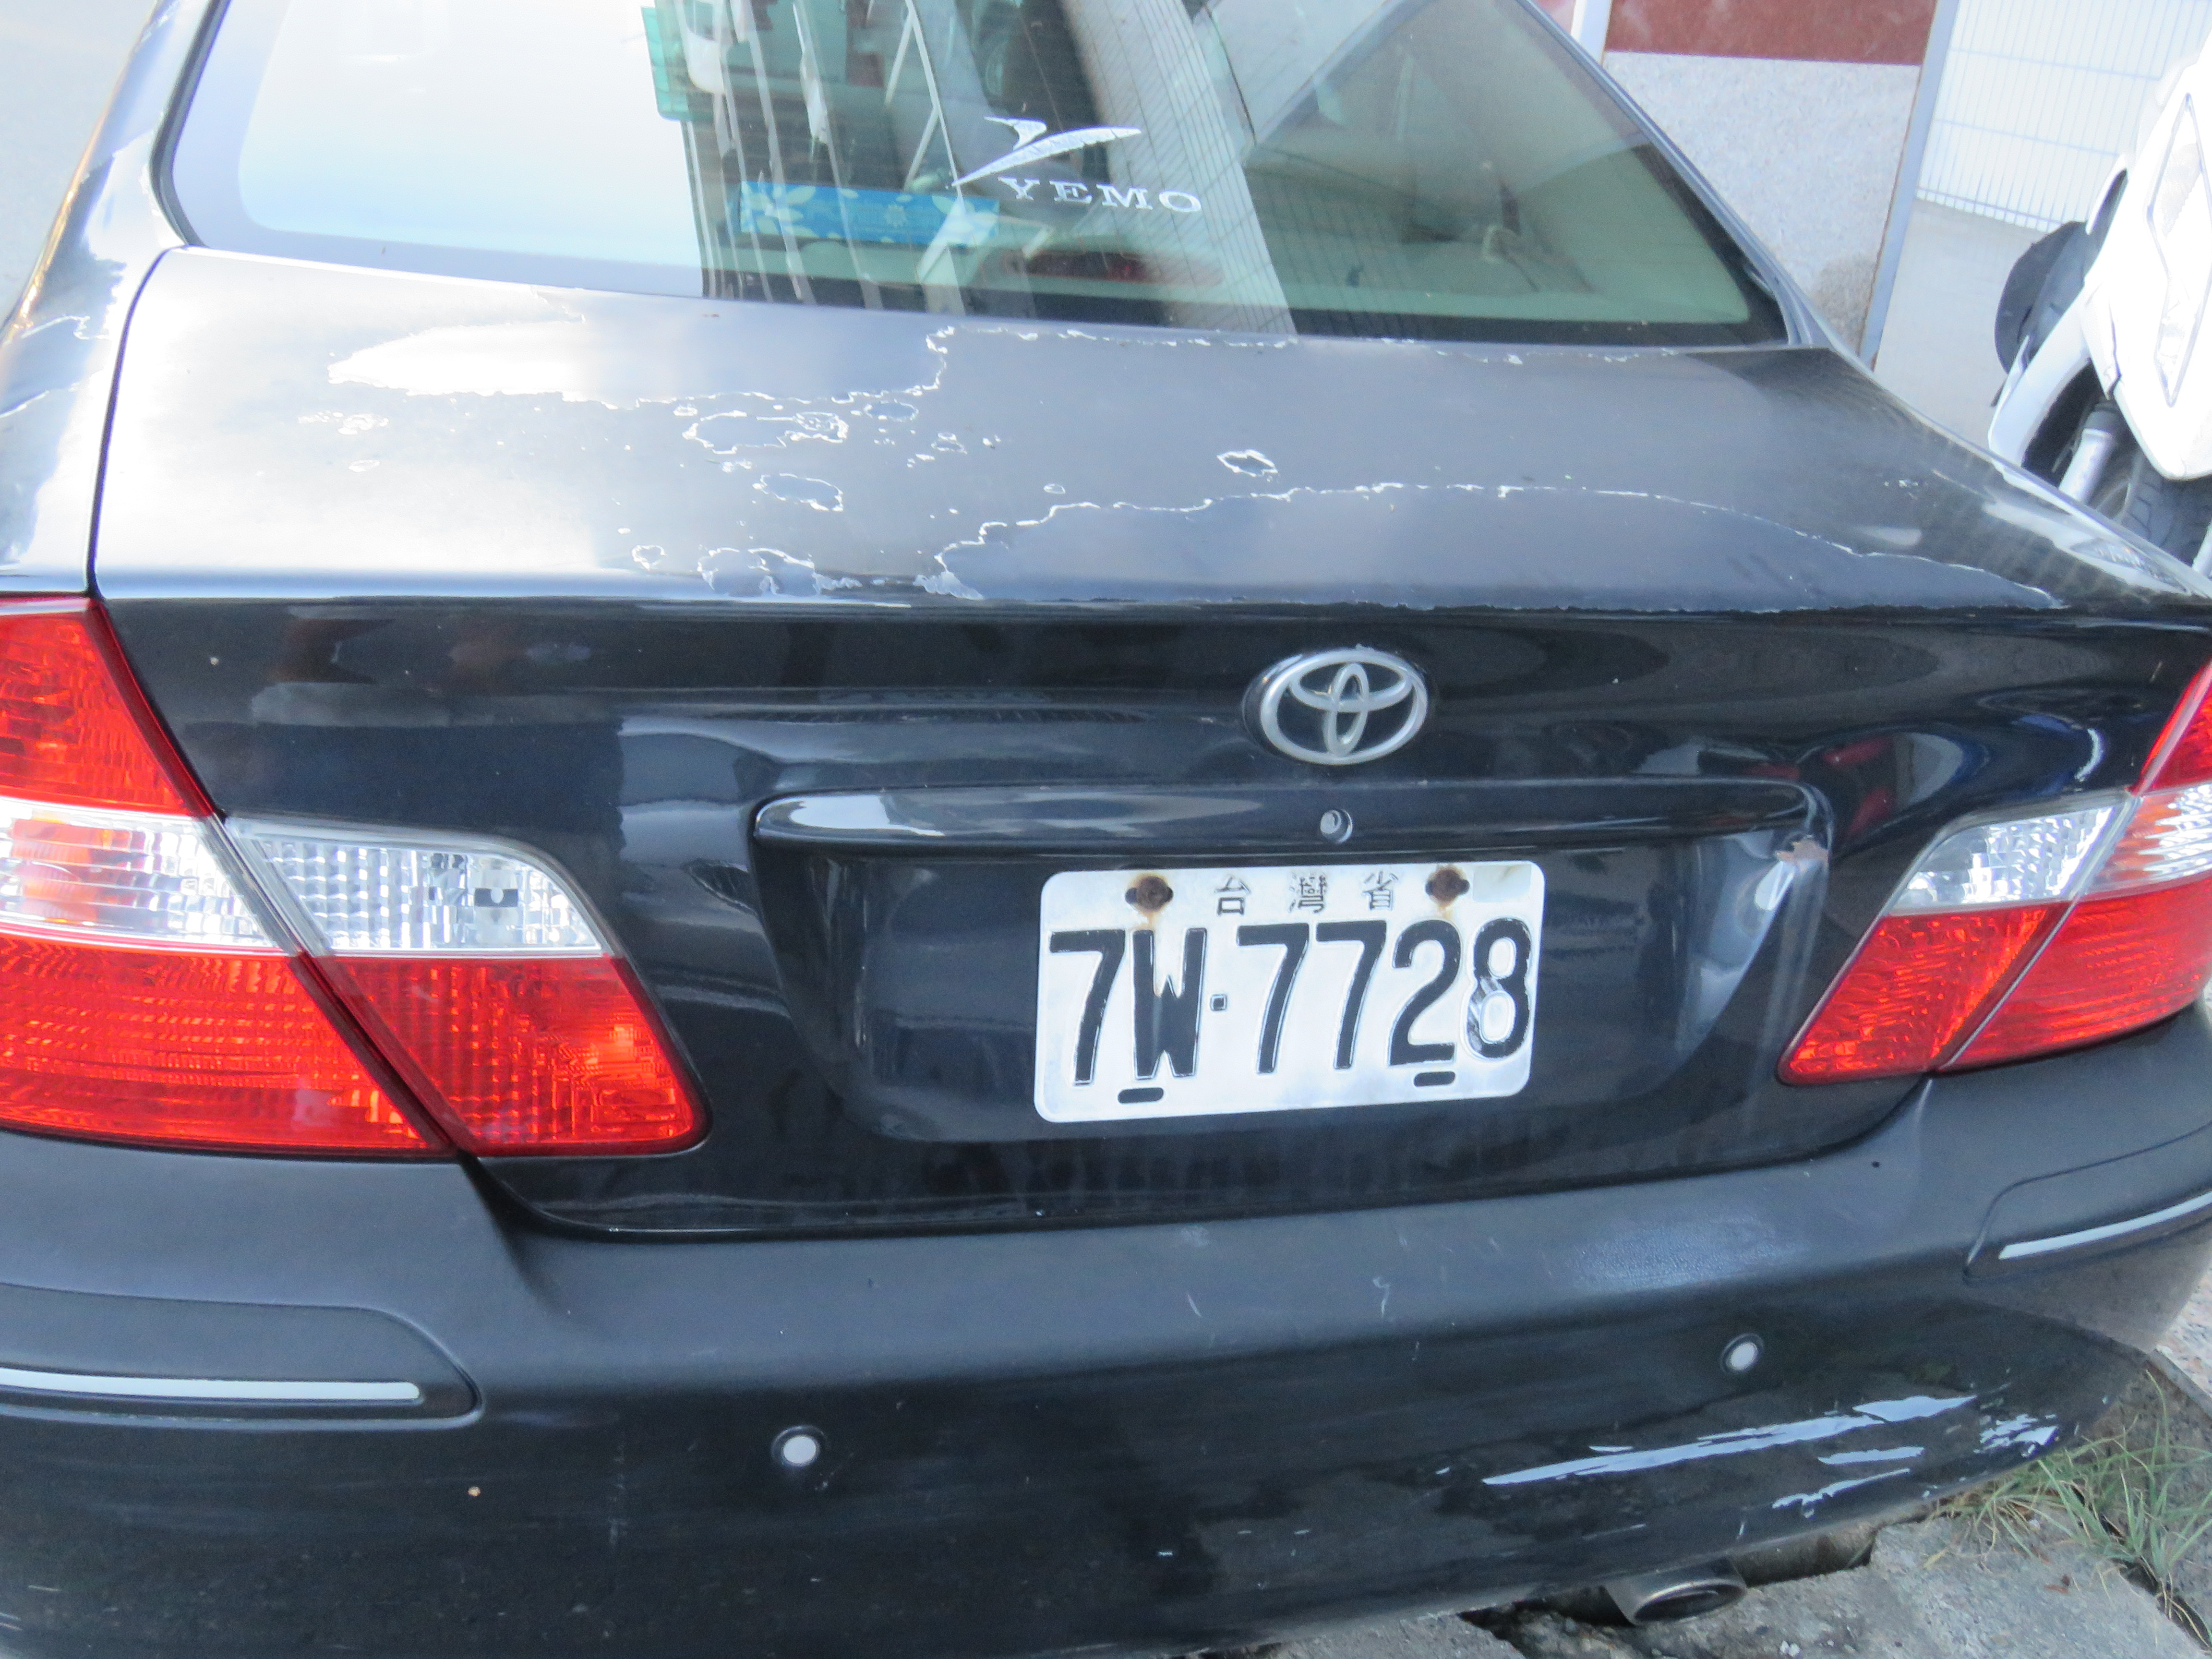car: (0, 0, 2196, 1647)
car_card: (1028, 840, 1550, 1147)
